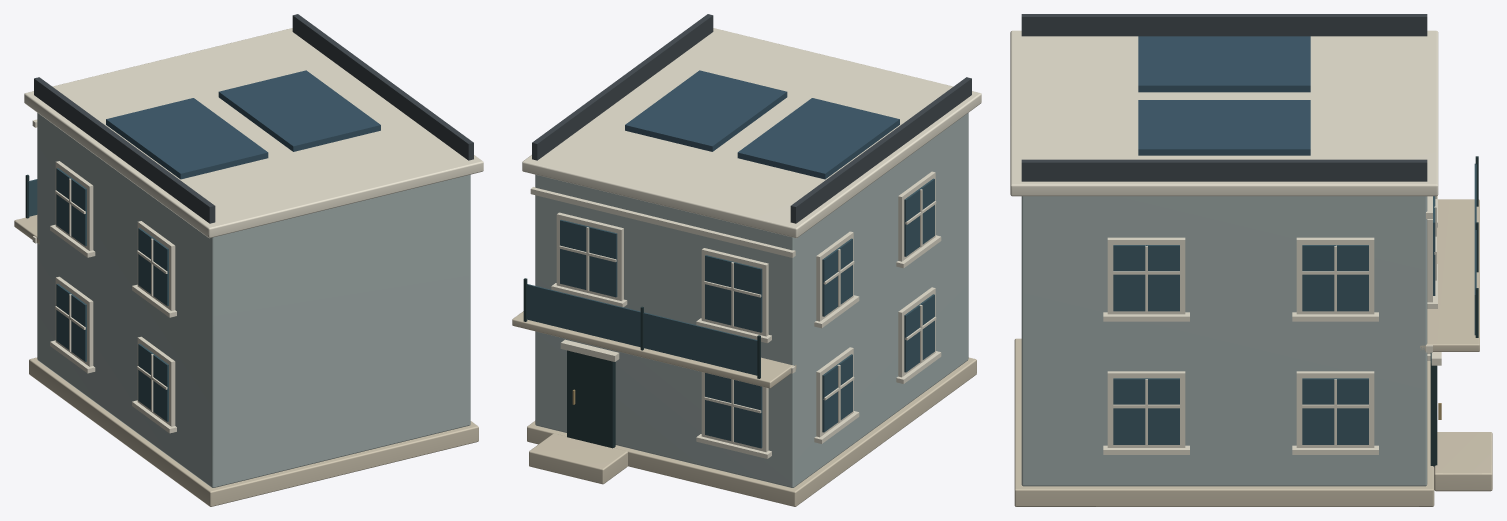
Rendered from modernHouse.glb.
The picture shows the model from 3 angles, left to right: view 1: azimuth 30°, elevation 25°; view 2: azimuth 150°, elevation 25°; view 3: azimuth 270°, elevation 25°; orthographic projection. The views are drawn at different scales.
Parts seen in each view (by area): view 1: Painted siding, Ivory trim, Solar panels, Limestone, Slate roof, Window glass; view 2: Painted siding, Ivory trim, Window glass, Solar panels, Limestone, Slate roof, Dark metal; view 3: Painted siding, Ivory trim, Limestone, Solar panels, Slate roof, Window glass, Dark metal.
Part boxes in pixels (left/top/right/bottom): Painted siding: left=37, top=113, right=470, bottom=487; Ivory trim: left=24, top=28, right=483, bottom=433; Solar panels: left=106, top=70, right=380, bottom=179; Limestone: left=14, top=215, right=478, bottom=506; Slate roof: left=34, top=14, right=473, bottom=223; Window glass: left=28, top=168, right=168, bottom=421; Painted siding: left=535, top=113, right=968, bottom=487; Ivory trim: left=522, top=28, right=981, bottom=458; Window glass: left=527, top=178, right=934, bottom=448; Solar panels: left=625, top=70, right=899, bottom=179; Limestone: left=512, top=311, right=976, bottom=506; Slate roof: left=532, top=14, right=971, bottom=223; Dark metal: left=523, top=278, right=760, bottom=448; Painted siding: left=1021, top=196, right=1427, bottom=486; Ivory trim: left=1010, top=30, right=1441, bottom=454; Limestone: left=1014, top=199, right=1492, bottom=506; Solar panels: left=1138, top=36, right=1310, bottom=155; Slate roof: left=1021, top=14, right=1427, bottom=181; Window glass: left=1113, top=163, right=1476, bottom=444; Dark metal: left=1430, top=156, right=1478, bottom=466.
Bounding box in the file's own units: 6.6 × 6.82 × 8.67.
